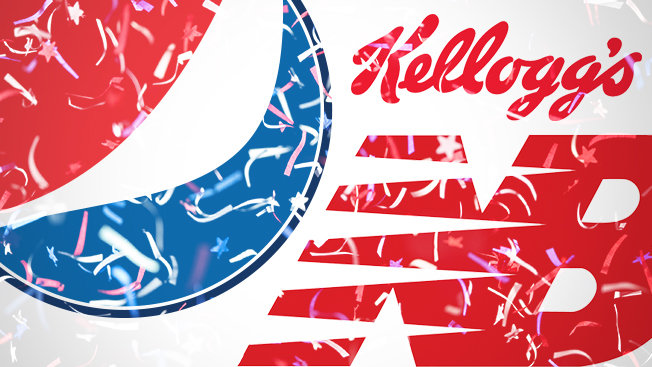pepsi: (0, 0, 330, 318)
